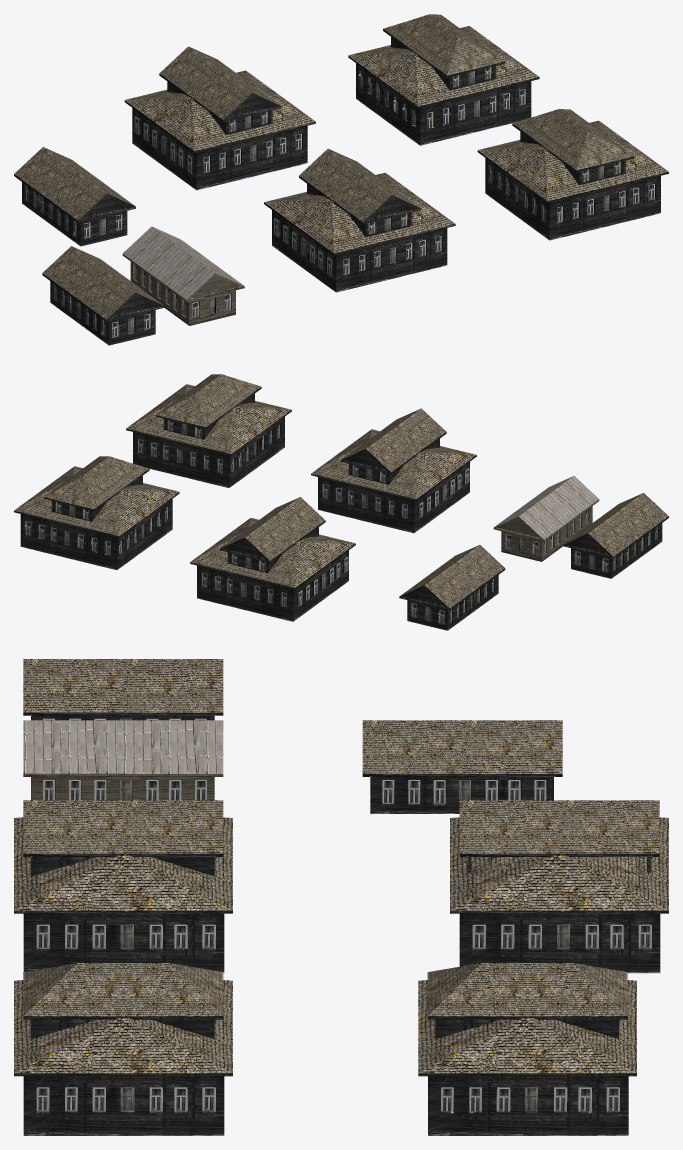
The model's file is Dom.fbx.
3 renders of one model, top to bottom at view 1: azimuth 30°, elevation 25°; view 2: azimuth 150°, elevation 25°; view 3: azimuth 270°, elevation 25°, orthographic. The views are drawn at different scales.
Parts seen in each view (by area): view 1: Dom2, Dom1, Dom23, Dom22, Rectangle96, Rectangle75, Rectangle85, Rectangle105, Rectangle86, Rectangle80, Rectangle113, Rectangle110 (+14 smaller); view 2: Dom2, Dom1, Dom23, Dom22, Rectangle79, Rectangle112, Rectangle105, Rectangle85, Rectangle87, Rectangle80, Rectangle113, Rectangle110 (+14 smaller); view 3: Dom1, Dom2, Dom22, Dom23, Rectangle78, Rectangle104, Rectangle99, Rectangle84, Rectangle121, Rectangle106, Rectangle110, Rectangle118 (+11 smaller).
Boxes of the visible parts, bbox=[...] form: Dom2: bbox=[264, 148, 455, 292]; Dom1: bbox=[477, 109, 668, 240]; Dom23: bbox=[42, 246, 164, 345]; Dom22: bbox=[122, 226, 244, 325]; Rectangle96: bbox=[196, 125, 307, 190]; Rectangle75: bbox=[420, 81, 531, 145]; Rectangle85: bbox=[348, 45, 478, 106]; Rectangle105: bbox=[125, 89, 254, 151]; Rectangle86: bbox=[415, 25, 504, 75]; Rectangle80: bbox=[356, 63, 420, 145]; Rectangle113: bbox=[132, 108, 196, 190]; Rectangle110: bbox=[159, 46, 247, 96]; Dom2: bbox=[311, 408, 476, 533]; Dom1: bbox=[126, 374, 291, 487]; Dom23: bbox=[563, 493, 668, 578]; Dom22: bbox=[493, 476, 599, 561]; Rectangle79: bbox=[20, 514, 117, 569]; Rectangle112: bbox=[197, 565, 293, 621]; Rectangle105: bbox=[243, 534, 355, 587]; Rectangle85: bbox=[67, 483, 179, 535]; Rectangle87: bbox=[44, 465, 121, 508]; Rectangle80: bbox=[117, 499, 172, 569]; Rectangle113: bbox=[293, 550, 348, 621]; Rectangle110: bbox=[221, 517, 297, 560]; Dom1: bbox=[14, 963, 232, 1135]; Dom2: bbox=[14, 800, 232, 973]; Dom22: bbox=[23, 720, 223, 800]; Dom23: bbox=[23, 659, 223, 720]; Rectangle78: bbox=[428, 1076, 628, 1135]; Rectangle104: bbox=[450, 855, 668, 910]; Rectangle99: bbox=[459, 913, 660, 973]; Rectangle84: bbox=[418, 1017, 636, 1073]; Rectangle121: bbox=[370, 777, 553, 813]; Rectangle106: bbox=[459, 800, 559, 853]; Rectangle110: bbox=[559, 800, 659, 853]; Rectangle118: bbox=[462, 720, 562, 773].
Size of the model in its own units: 43819 by 6260 by 28433.
Materials: 2 (2 with a texture image).
